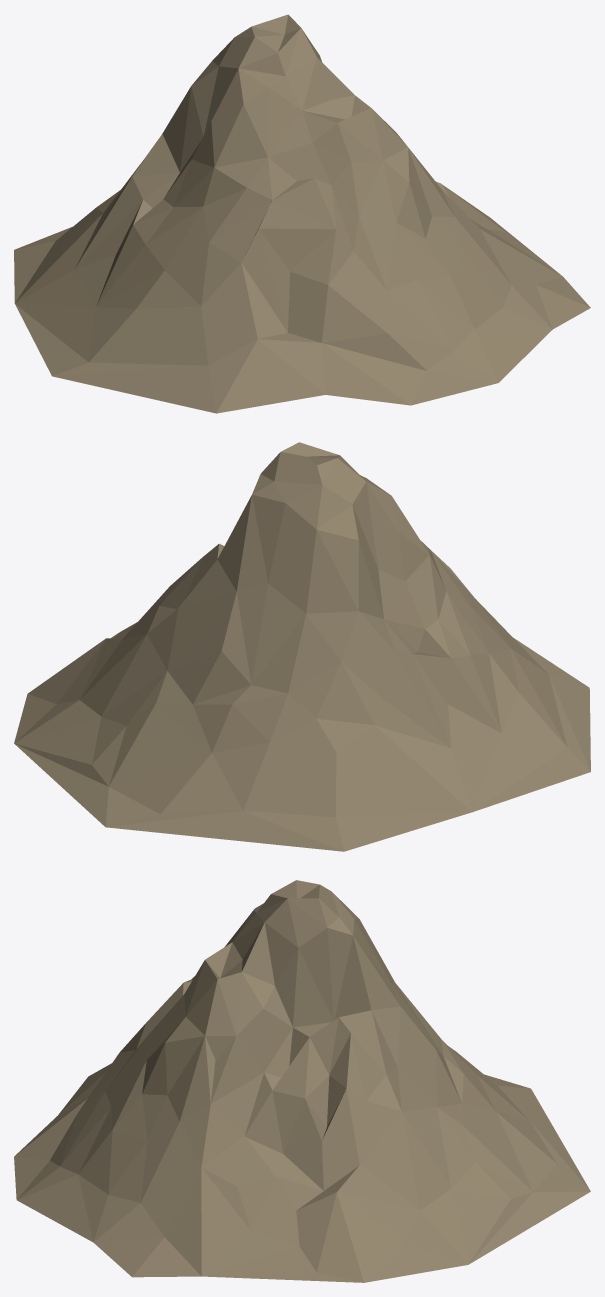
File: Mountain_3.fbx
3 views of the same model, one above another, from view 1: azimuth 30°, elevation 25°; view 2: azimuth 150°, elevation 25°; view 3: azimuth 270°, elevation 25° (orthographic). The views are drawn at different scales.
Parts seen in each view (by area): view 1: Mountain_3; view 2: Mountain_3; view 3: Mountain_3.
Part boxes in pixels (box(x1,y1,x2,y2)): Mountain_3: box(14, 14, 590, 413); Mountain_3: box(14, 442, 590, 851); Mountain_3: box(14, 880, 590, 1282).
Size of the model in its own units: 769 by 411 by 776.
